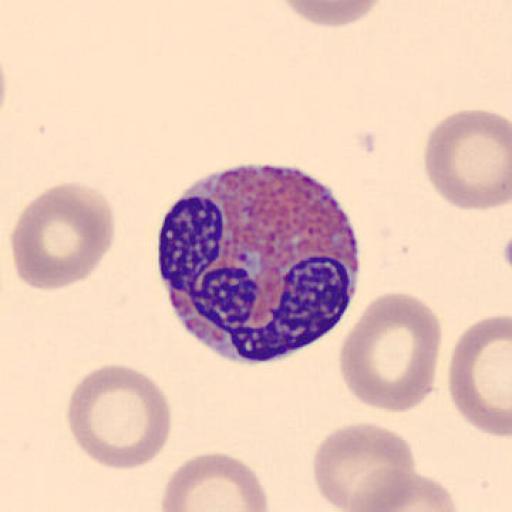RBC: (338, 289, 443, 415), (10, 180, 117, 293), (66, 361, 172, 471), (422, 106, 512, 212), (312, 420, 416, 511), (448, 312, 512, 438), (160, 451, 270, 512), (313, 458, 415, 512), (348, 469, 460, 512), (276, 0, 384, 30)
WBC: (158, 162, 363, 366)
